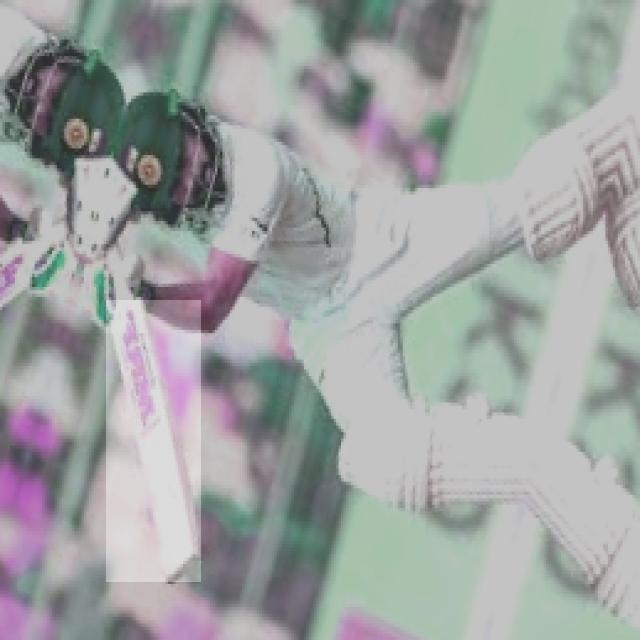bat: (110, 300, 205, 586)
toe: (163, 554, 201, 584)
